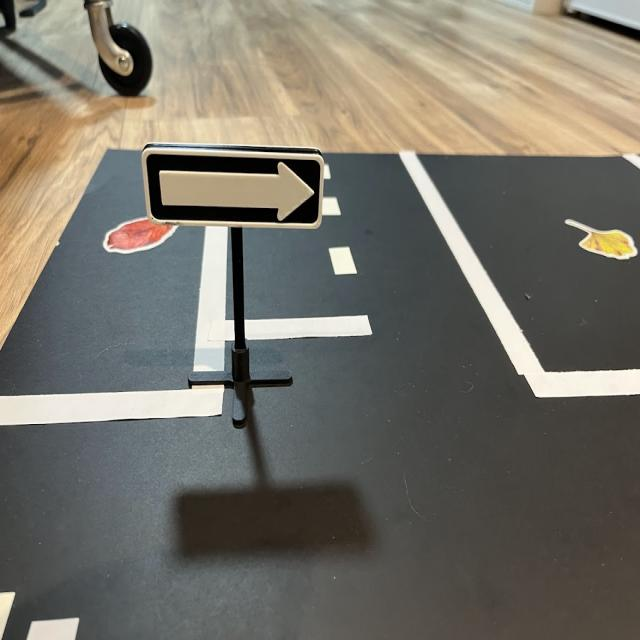sign_oneway_right: (141, 145, 326, 230)
